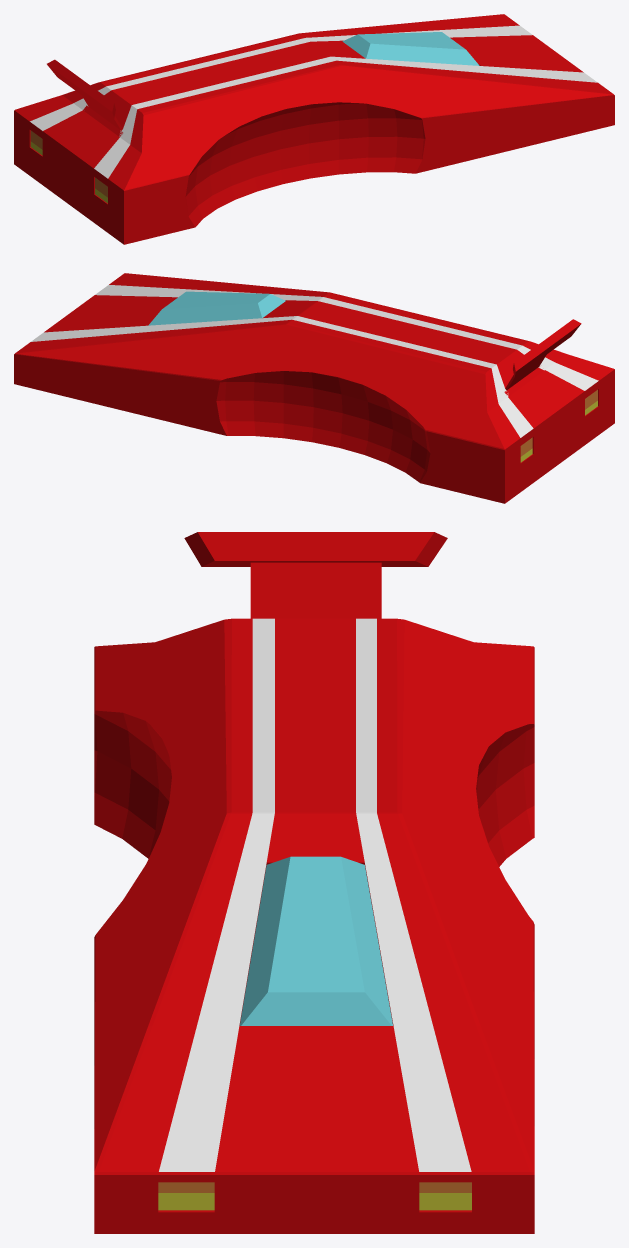
File: F1Car Fix.fbx
3 views of the same model, one above another, from view 1: azimuth 30°, elevation 25°; view 2: azimuth 150°, elevation 25°; view 3: azimuth 270°, elevation 25° (orthographic). The views are drawn at different scales.
Visible parts, largest first — view 1: Cube; view 2: Cube; view 3: Cube.
Part boxes in pixels (left/top/right/bottom): Cube: left=14, top=14, right=614, bottom=244; Cube: left=14, top=273, right=614, bottom=503; Cube: left=94, top=532, right=534, bottom=1233.
Bounding box in the file's own units: 507 × 118 × 197.
